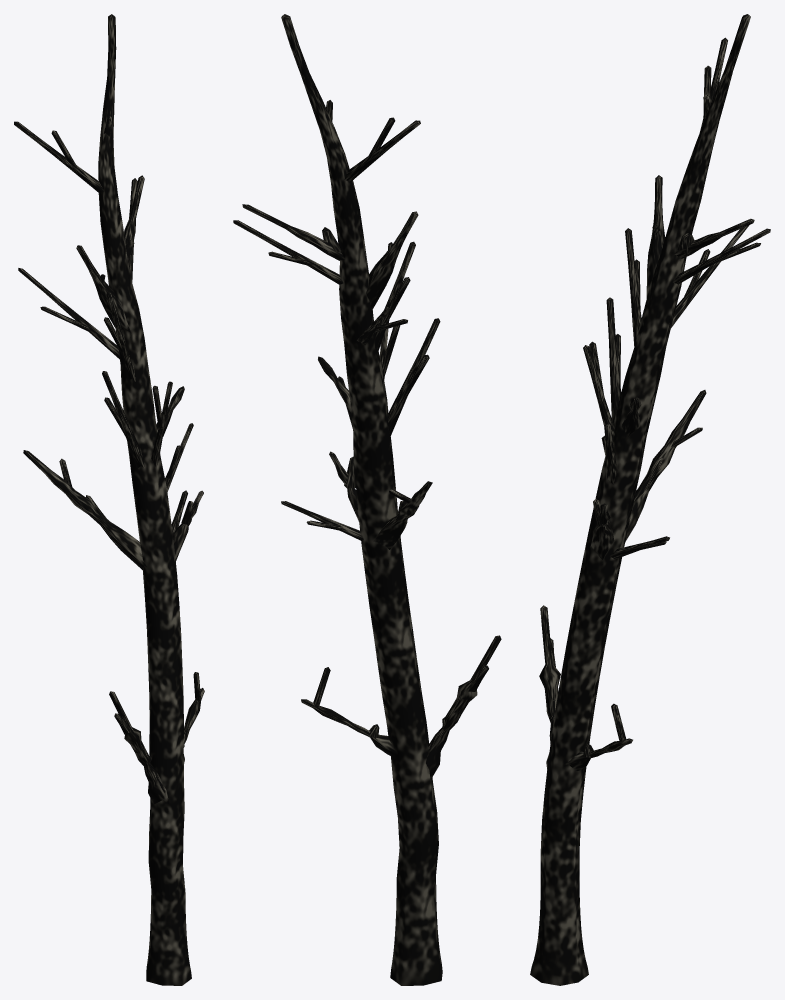
The model's file is CreTree03a.glb.
3 renders of one model, left to right at view 1: azimuth 30°, elevation 25°; view 2: azimuth 150°, elevation 25°; view 3: azimuth 270°, elevation 25°, orthographic. The views are drawn at different scales.
Visible parts, largest first — view 1: CreTree03a_limbs; view 2: CreTree03a_limbs; view 3: CreTree03a_limbs.
Part boxes in pixels (x1,y1,x2,y2): CreTree03a_limbs: (14,14,204,985); CreTree03a_limbs: (233,14,501,985); CreTree03a_limbs: (530,14,770,985).
Bounding box in the file's own units: 2.01 × 11.64 × 2.6.
Materials: 1 (1 with a texture image).
